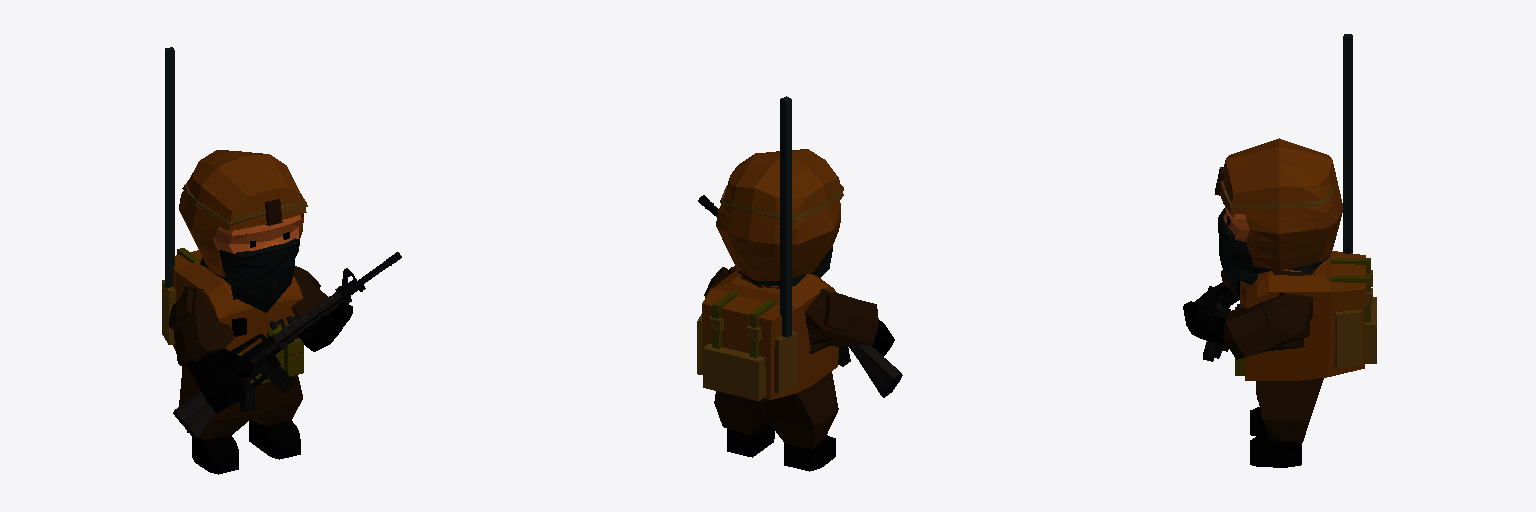
Rendered from command.obj.
3 renders of one model, left to right at view 1: azimuth 30°, elevation 25°; view 2: azimuth 150°, elevation 25°; view 3: azimuth 270°, elevation 25°, orthographic.
Visible parts, largest first — view 1: Cube.000; view 2: Cube.000; view 3: Cube.000.
Boxes of the visible parts, <box> form: Cube.000: <box>162,47,401,474</box>; Cube.000: <box>697,96,902,471</box>; Cube.000: <box>1183,34,1376,467</box>.
Bounding box in the file's own units: 0.6821 × 1.18 × 0.5361.